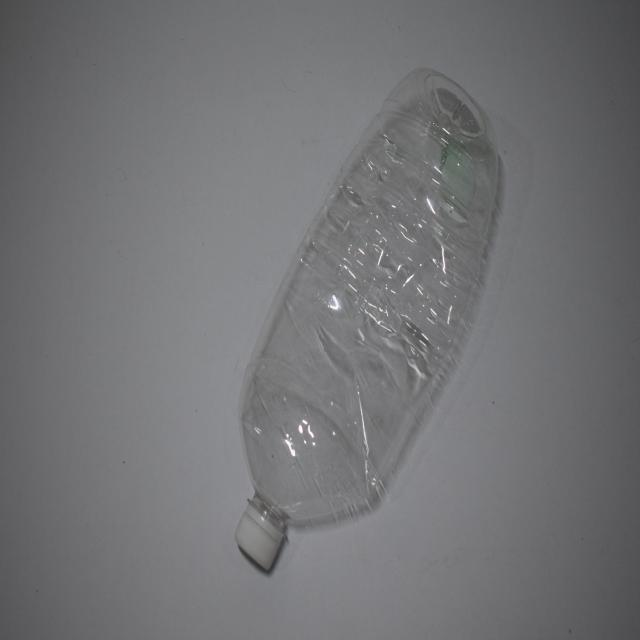bottle: (226, 46, 515, 592)
